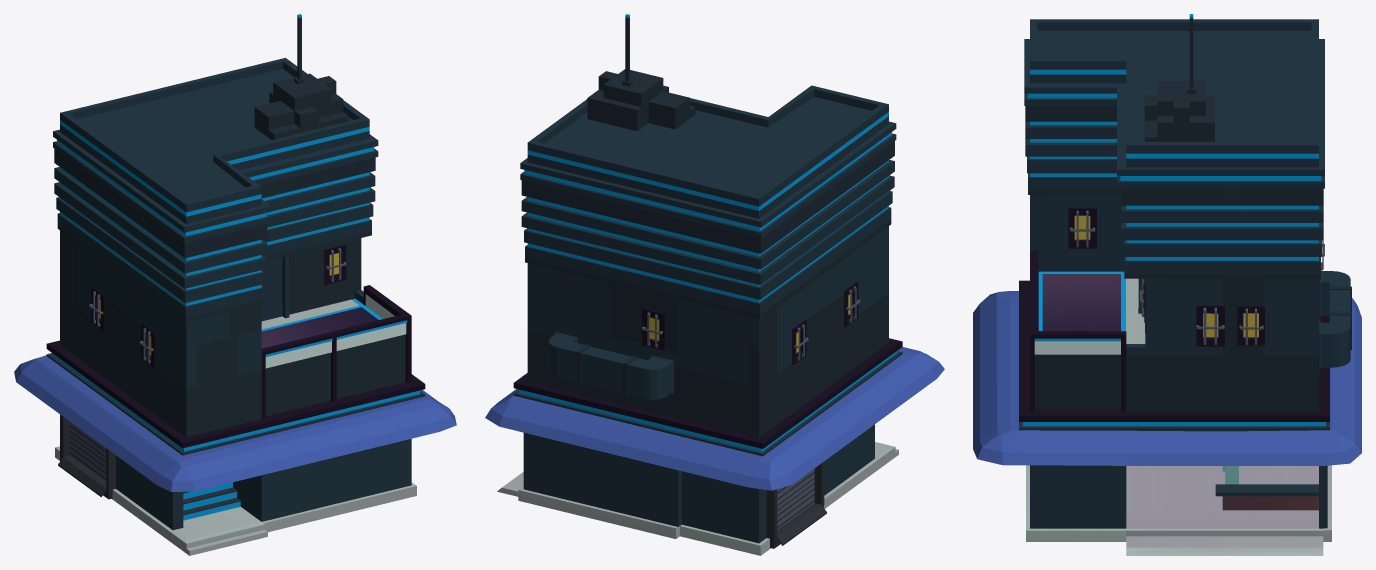
Rendered from Building_AptCornerStore.fbx.
3 renders of one model, left to right at view 1: azimuth 30°, elevation 25°; view 2: azimuth 150°, elevation 25°; view 3: azimuth 270°, elevation 25°, orthographic. The views are drawn at different scales.
Parts seen in each view (by area): view 1: CubeHome.001; view 2: CubeHome.001; view 3: CubeHome.001.
Boxes of the visible parts, x1,y1,x2,y2 form: CubeHome.001: [14, 14, 456, 555]; CubeHome.001: [485, 14, 944, 555]; CubeHome.001: [973, 14, 1361, 555].
Size of the model in its own units: 968 by 1380 by 968.
